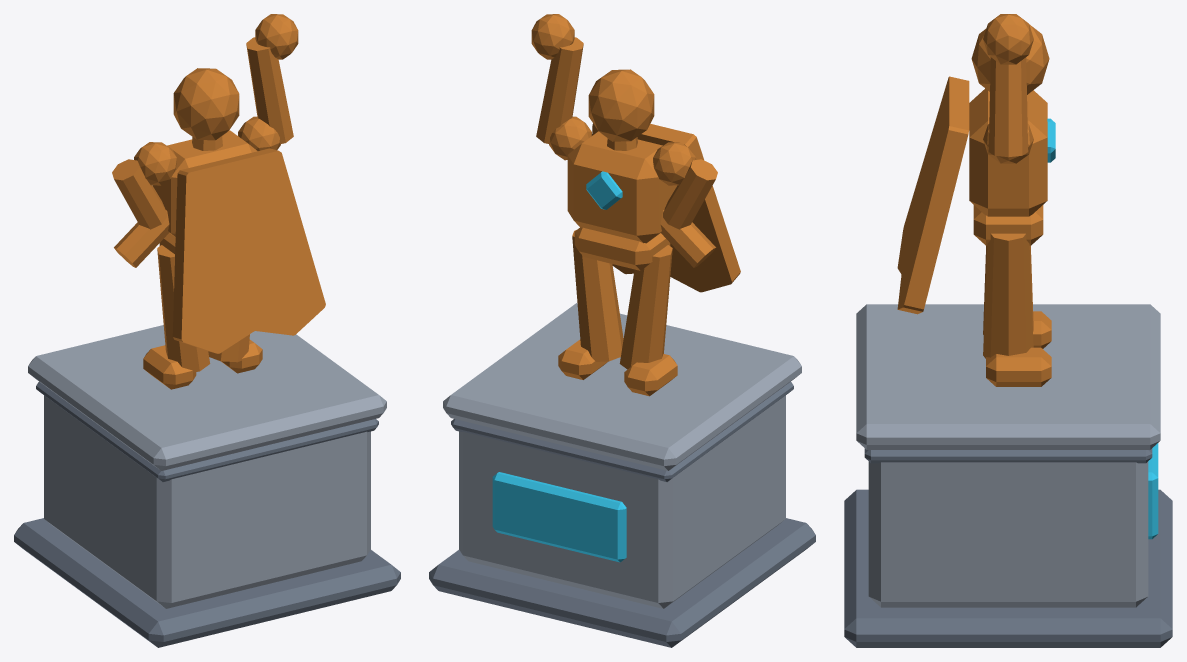
The model's file is Prop_hero_city_HeroStatue.glb.
The picture shows the model from 3 angles, left to right: view 1: azimuth 30°, elevation 25°; view 2: azimuth 150°, elevation 25°; view 3: azimuth 270°, elevation 25°; orthographic projection. The views are drawn at different scales.
Visible parts, largest first — view 1: StoneLight_9AA4B2, Bronze_CD7F32, StoneDark_6B7686; view 2: StoneLight_9AA4B2, Bronze_CD7F32, StoneDark_6B7686, ZoneCyan_35C9F0; view 3: StoneLight_9AA4B2, Bronze_CD7F32, StoneDark_6B7686, ZoneCyan_35C9F0.
Boxes of the visible parts, x1=… form: StoneLight_9AA4B2: x1=28, y1=325, x2=386, y2=608; Bronze_CD7F32: x1=112, y1=14, x2=325, y2=389; StoneDark_6B7686: x1=14, y1=381, x2=400, y2=647; StoneLight_9AA4B2: x1=443, y1=303, x2=801, y2=608; Bronze_CD7F32: x1=531, y1=14, x2=740, y2=396; StoneDark_6B7686: x1=429, y1=381, x2=815, y2=647; ZoneCyan_35C9F0: x1=492, y1=171, x2=626, y2=562; StoneLight_9AA4B2: x1=856, y1=304, x2=1160, y2=607; Bronze_CD7F32: x1=897, y1=14, x2=1051, y2=386; StoneDark_6B7686: x1=844, y1=448, x2=1172, y2=647; ZoneCyan_35C9F0: x1=1047, y1=118, x2=1158, y2=539.
Bounding box in the file's own units: 8 × 16.31 × 8.
